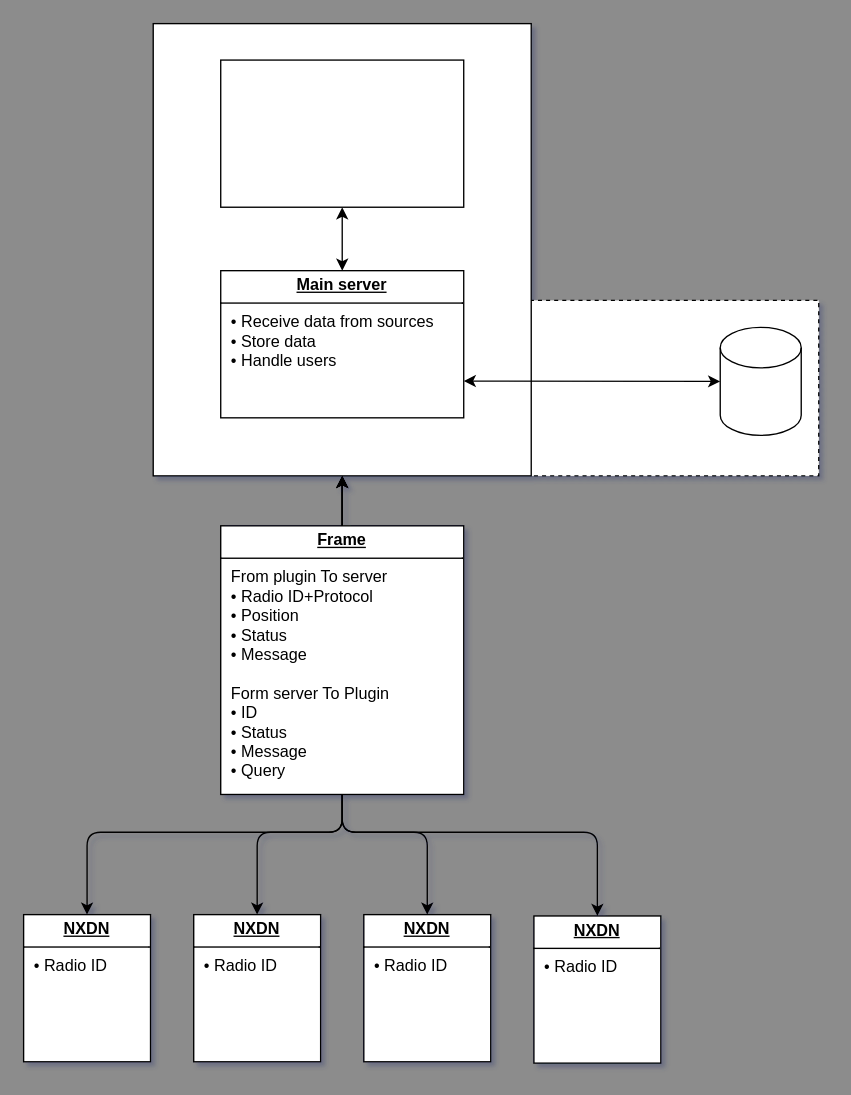
This 851x1095 diagram has some shape labels left out. Here are the shapes that lost their labels. From the top down, the box of each, then its label:
(219, 59, 464, 207): UI/UX • Map • Actions • SKR • TXT • ...
(719, 326, 801, 435): SQL
